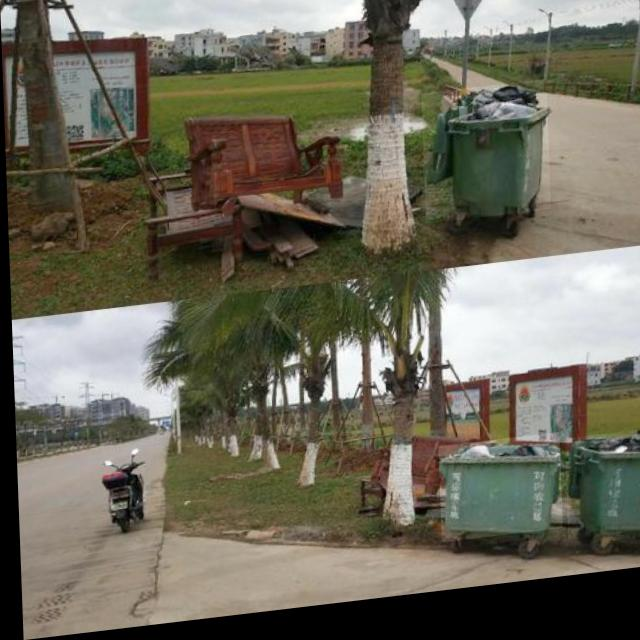overflow: (420, 93, 549, 234), (434, 446, 558, 553), (561, 443, 640, 553)
